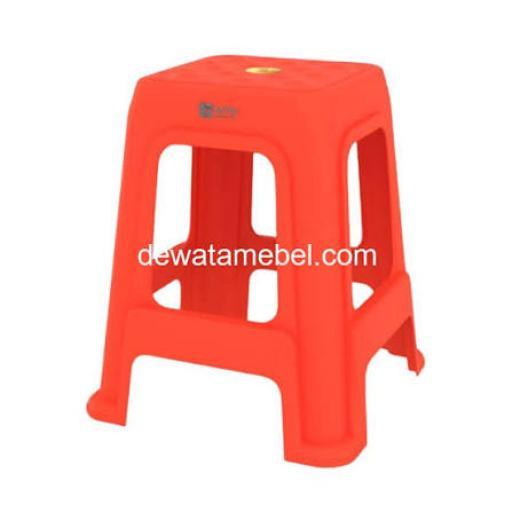kursi: (78, 51, 426, 471)
